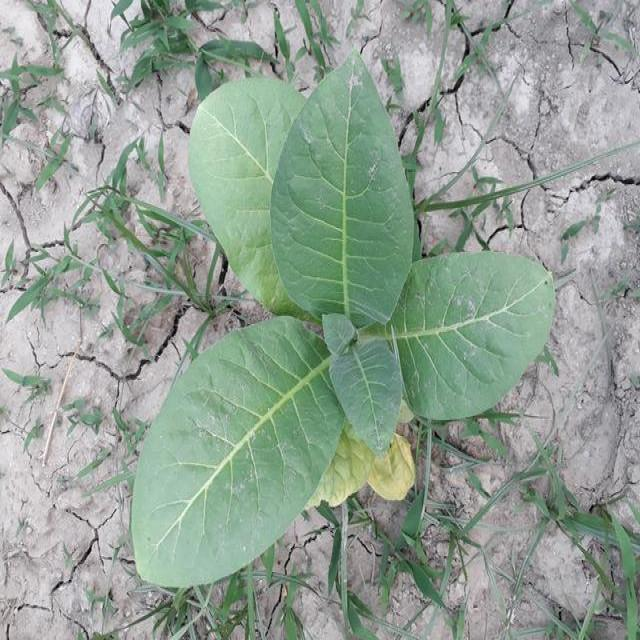crop: (142, 92, 552, 563)
